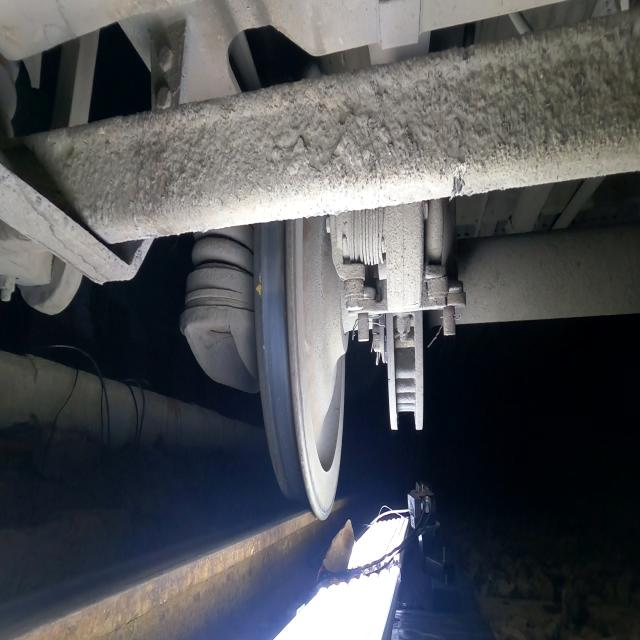Cracks-Scratches: (256, 271, 262, 299)
Shelling: (262, 250, 284, 292)
Wheel: (254, 216, 348, 520)
